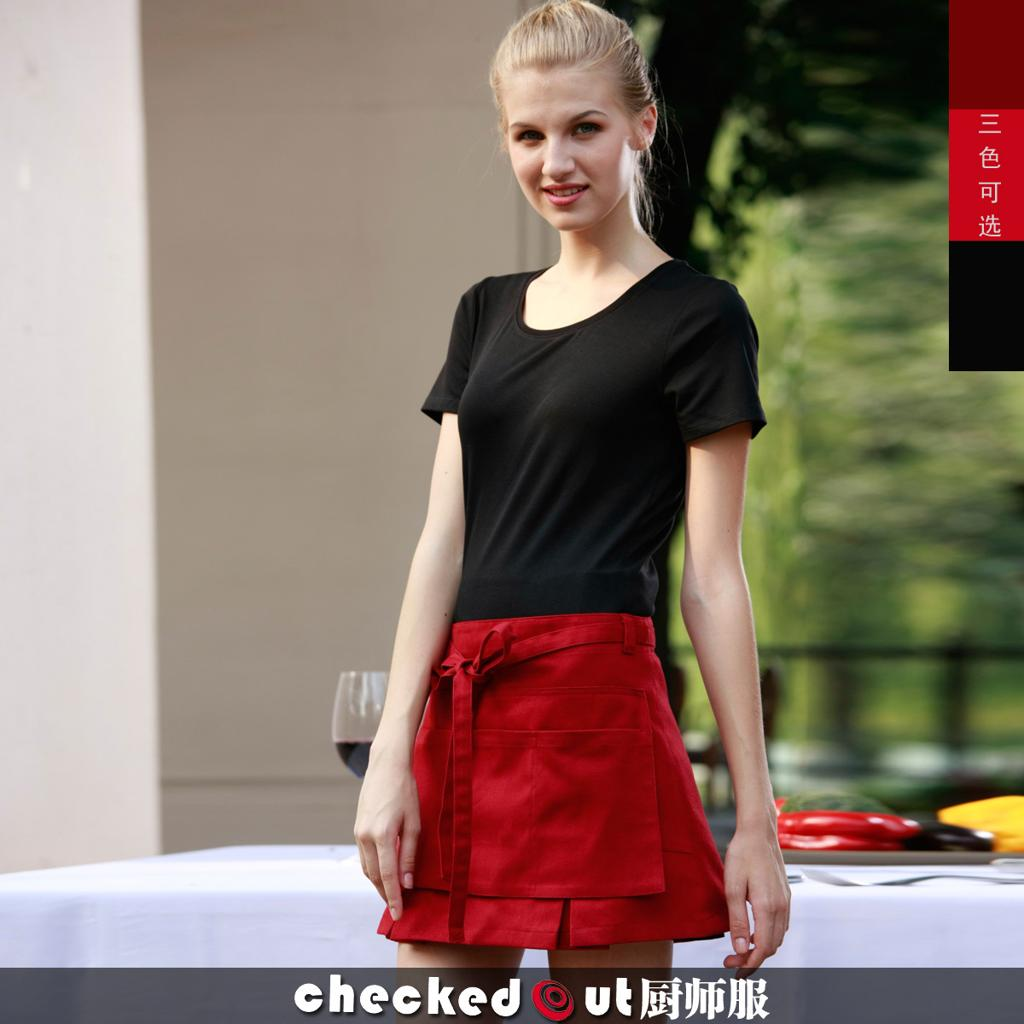face: (500, 60, 630, 236)
